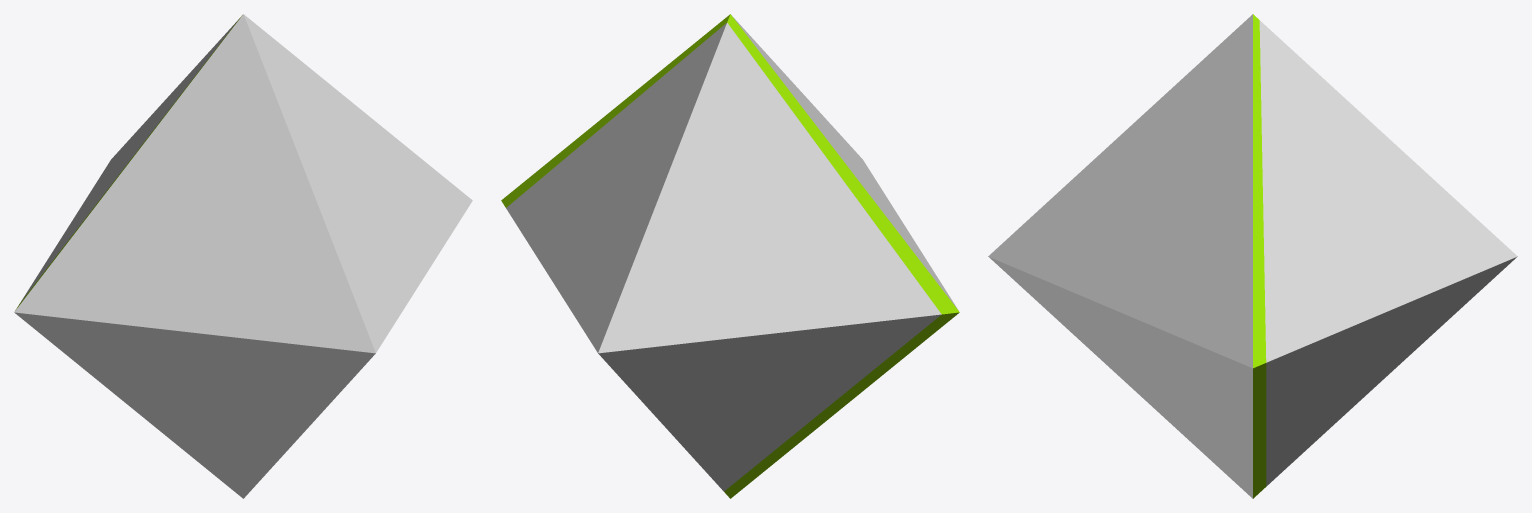
The model's file is Tick.fbx.
3 renders of one model, left to right at view 1: azimuth 30°, elevation 25°; view 2: azimuth 150°, elevation 25°; view 3: azimuth 270°, elevation 25°, orthographic.
Parts seen in each view (by area): view 1: Cube; view 2: Cube; view 3: Cube.
Boxes of the visible parts, bbox=[...] form: Cube: bbox=[14, 14, 472, 498]; Cube: bbox=[501, 14, 959, 498]; Cube: bbox=[988, 14, 1517, 498].
Size of the model in its own units: 198 by 200 by 198.
